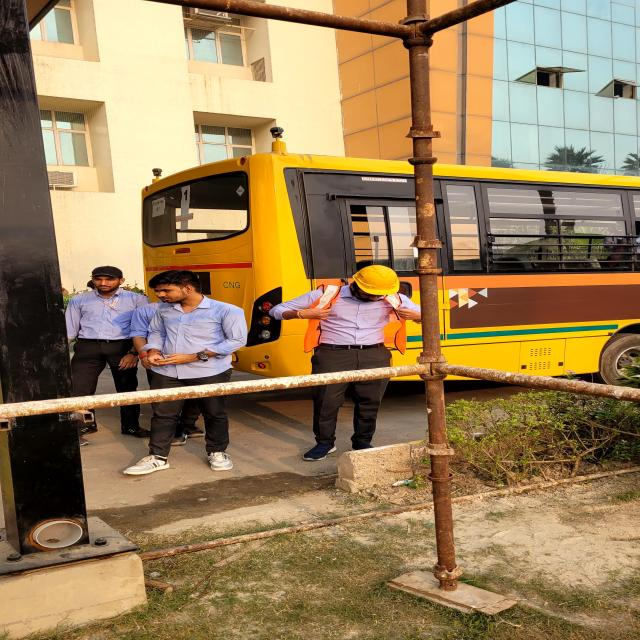safe: (305, 262, 411, 461)
unsafe: (140, 269, 238, 476), (67, 266, 154, 439)
